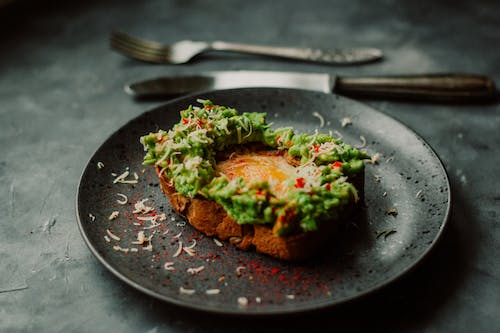knife: (121, 68, 500, 107)
